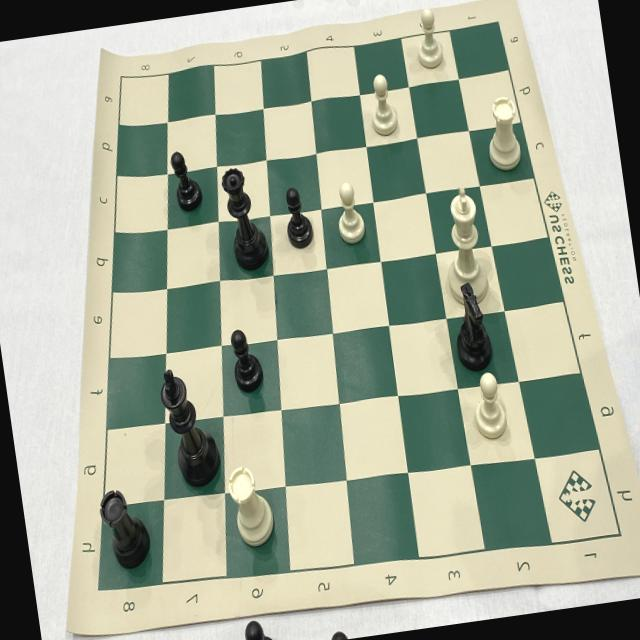black-king: (154, 358, 230, 496)
black-knight: (442, 276, 500, 374)
black-pawn: (223, 322, 269, 403), (166, 142, 207, 219), (280, 182, 320, 254)
black-queen: (218, 158, 273, 276)
black-rook: (94, 480, 155, 576), (223, 457, 282, 551)
white-king: (432, 176, 496, 309)
white-pawn: (466, 368, 514, 444), (329, 178, 371, 252), (363, 68, 405, 140), (409, 3, 450, 73)
white-rook: (478, 92, 530, 174)
